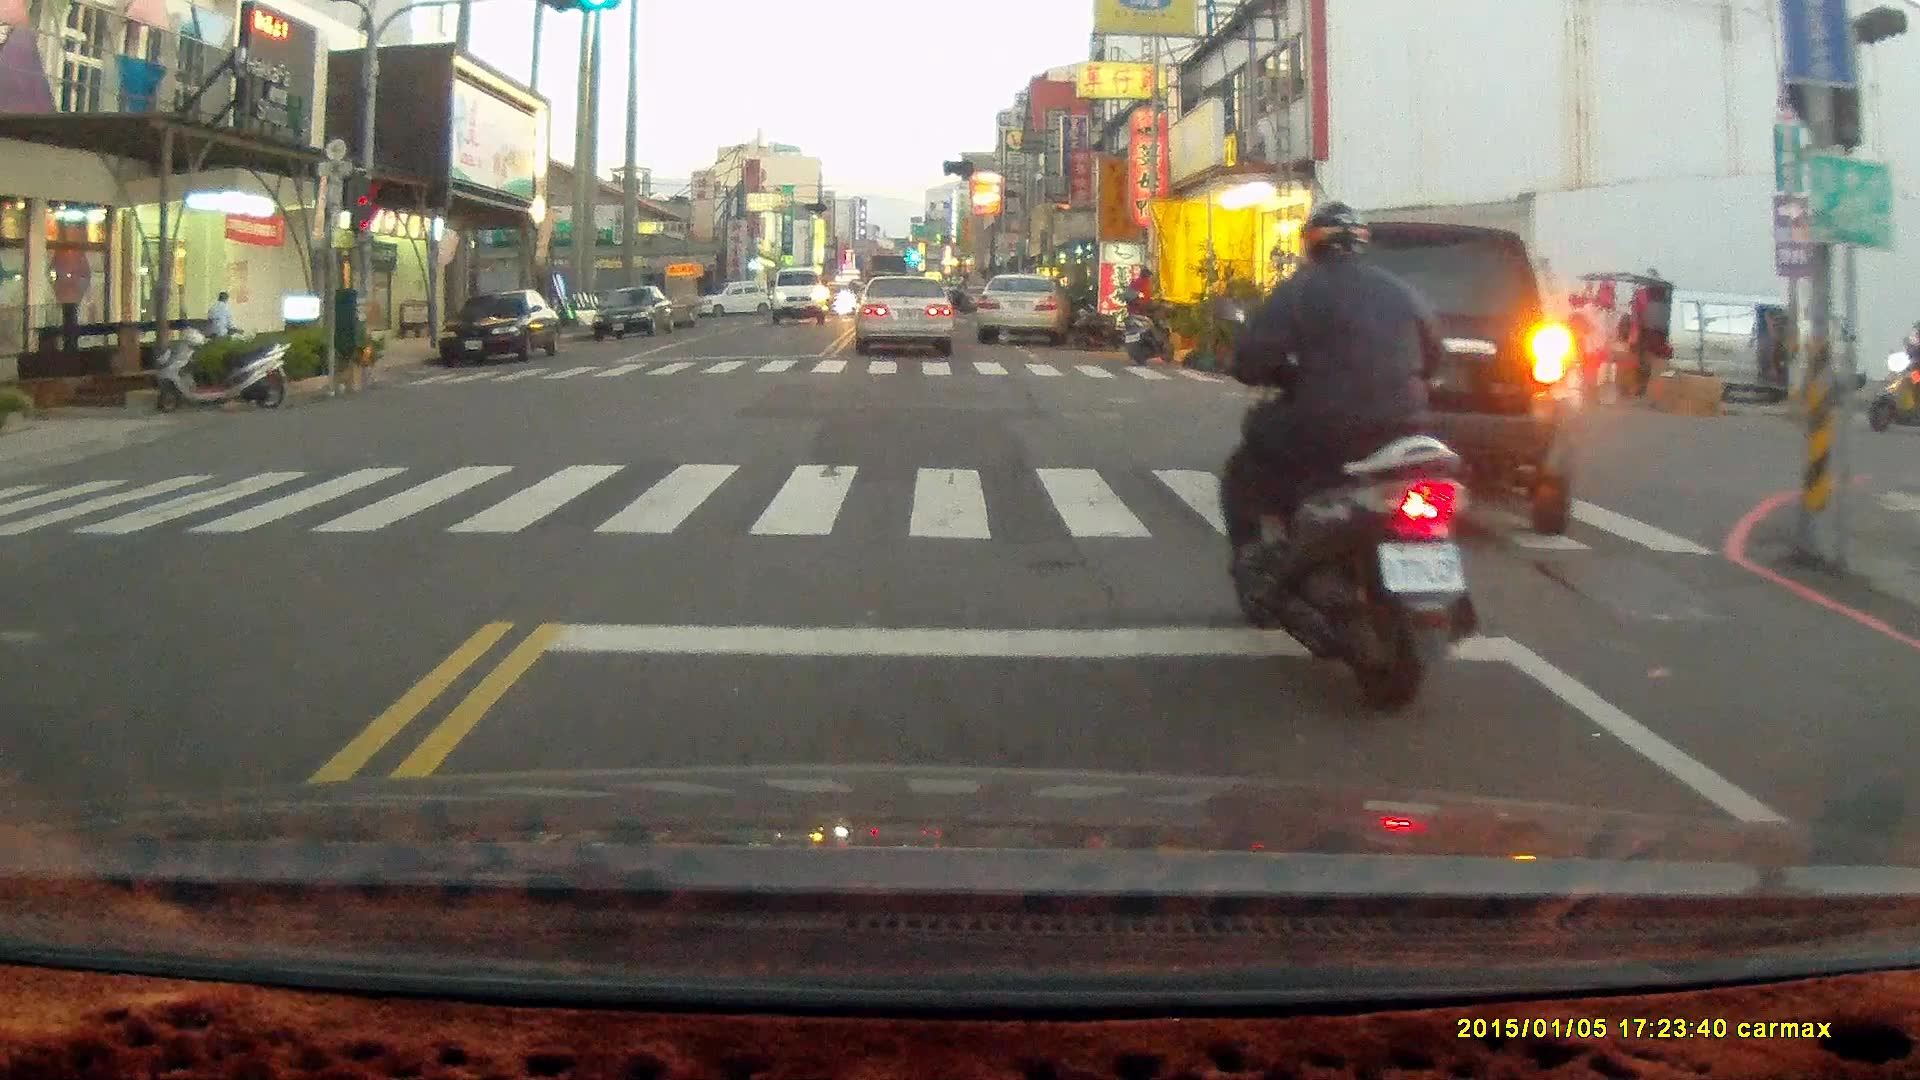pedestrian: (1559, 288, 1596, 402), (1120, 265, 1152, 355), (203, 289, 239, 354), (1772, 313, 1797, 404)
rider: (1208, 203, 1474, 726), (1862, 330, 1920, 432)
vehicle: (1260, 226, 1594, 539), (1610, 291, 1869, 417), (438, 289, 561, 370), (852, 278, 957, 357), (977, 272, 1070, 348), (591, 285, 676, 341), (770, 268, 827, 328)
